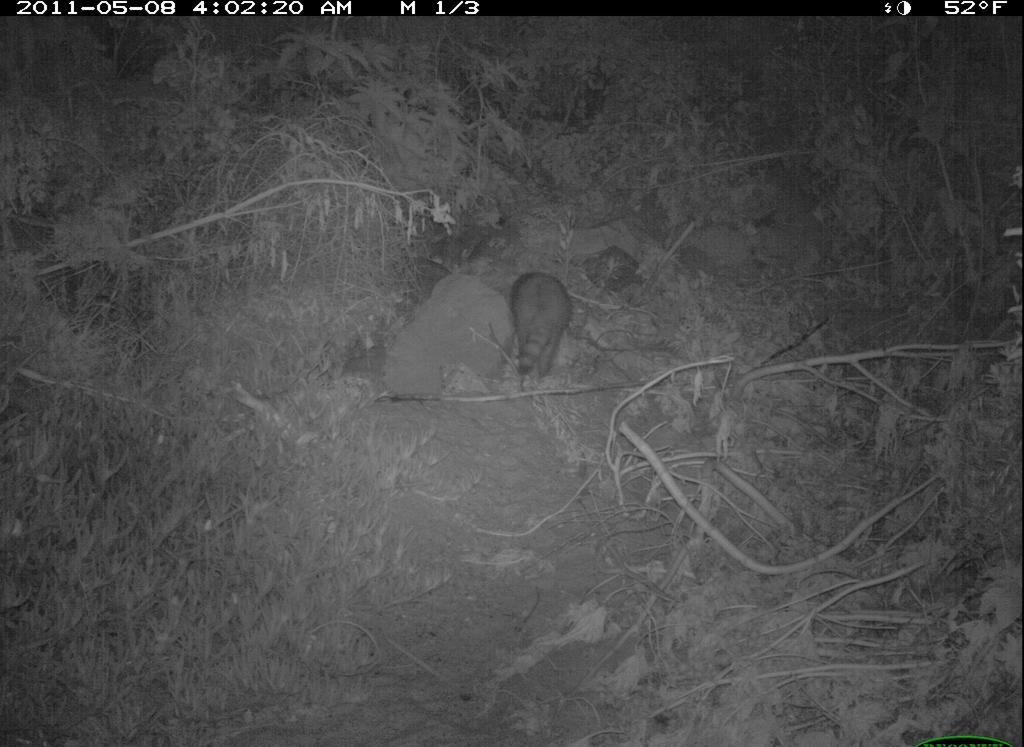raccoon: (510, 265, 575, 393)
